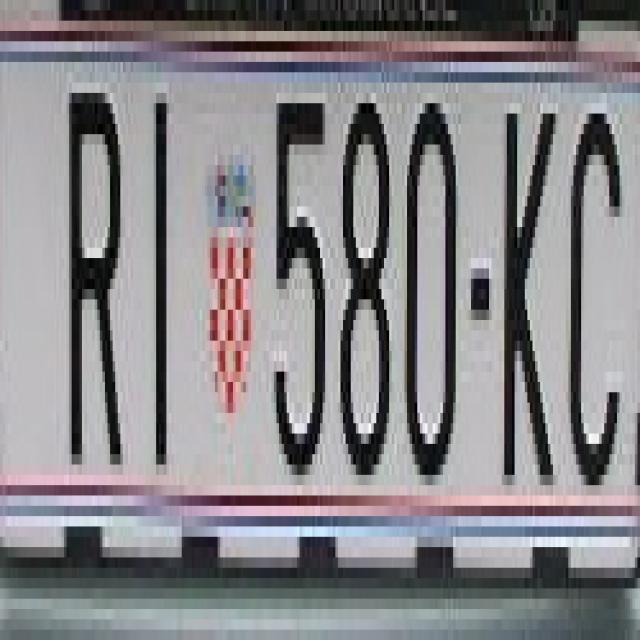0: (404, 93, 461, 475)
5: (271, 82, 328, 475)
8: (333, 82, 389, 464)
C: (568, 83, 622, 485)
K: (499, 72, 558, 475)
